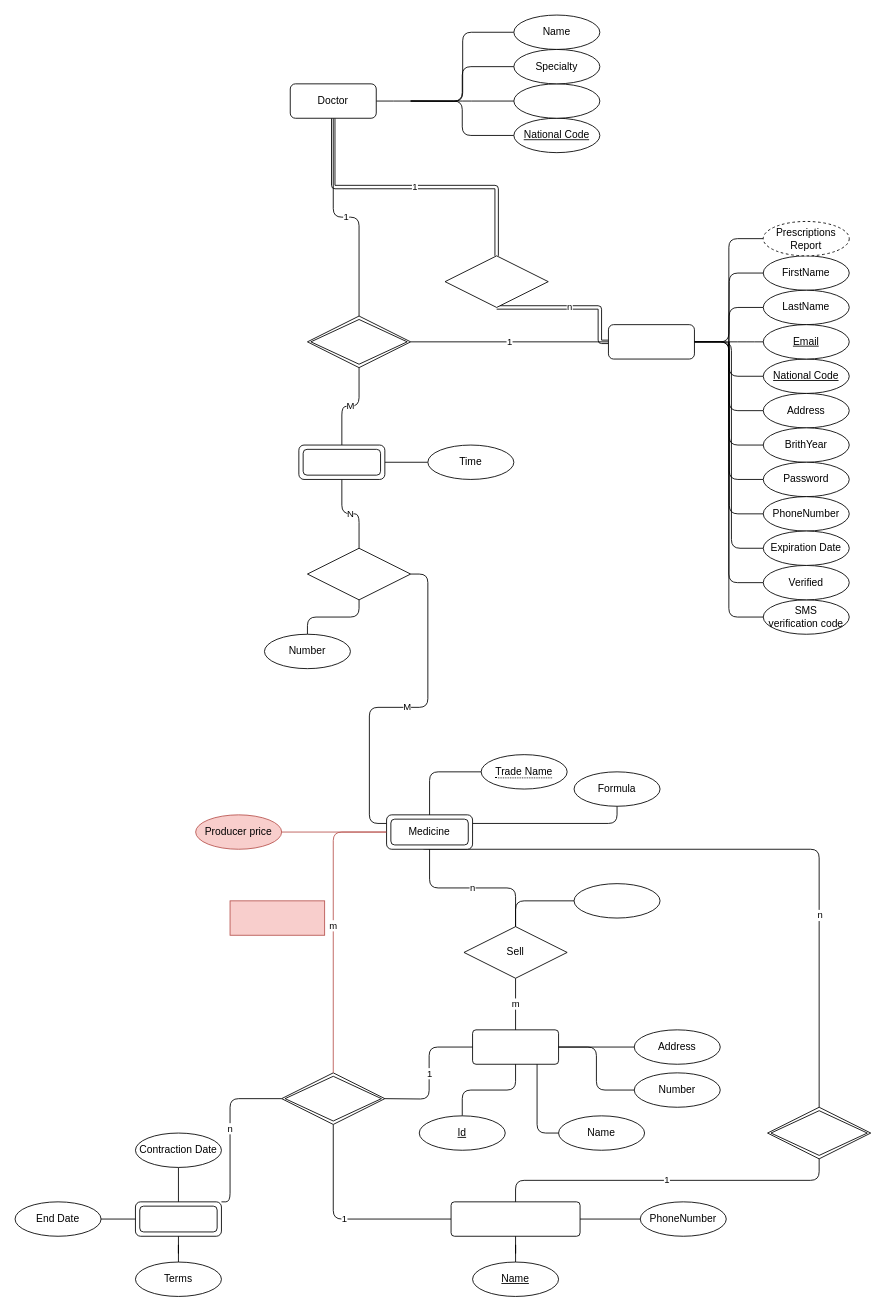
Some shapes in this 886 by 1312 pixel diagram are drawn without their labels. The shapes that lost their labels are listed below. From the top down, each one's centre as x and y in pixels, then its label:
pixel 556 100: Resume
pixel 496 281: Main doctor
pixel 359 341: Prescribe
pixel 651 341: Patient
pixel 341 461: Prescription
pixel 359 573: Has
pixel 277 917: پاسخ سوال
pixel 616 900: Price
pixel 515 1046: Pharmacy
pixel 333 1098: Make a Contract
pixel 819 1132: Produce
pixel 178 1218: Contract
pixel 515 1218: Pharmaceutical company
